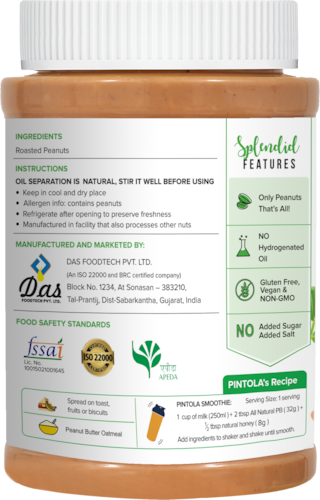fssai: (22, 334, 63, 360)
